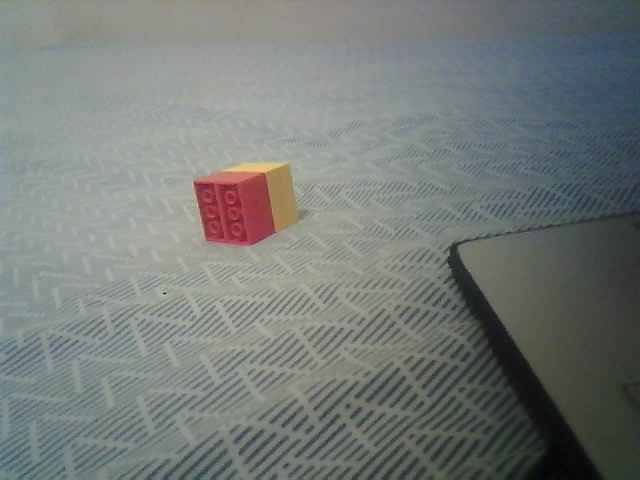lego: (191, 160, 299, 247)
